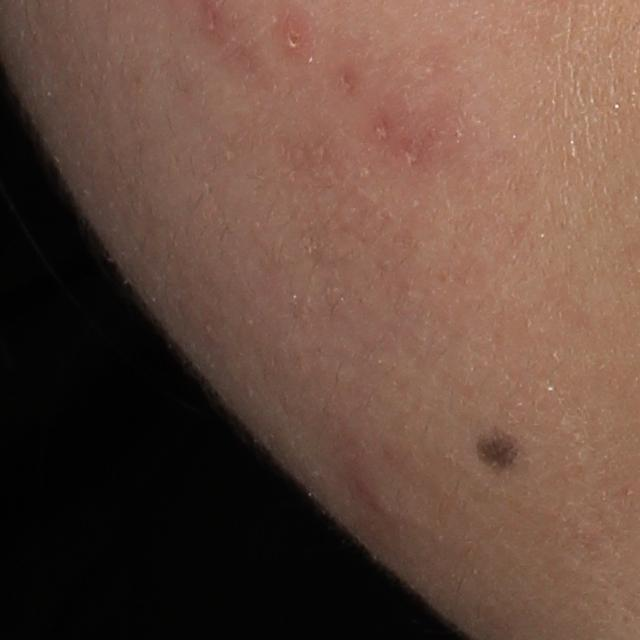nevus: (465, 425, 523, 473)
